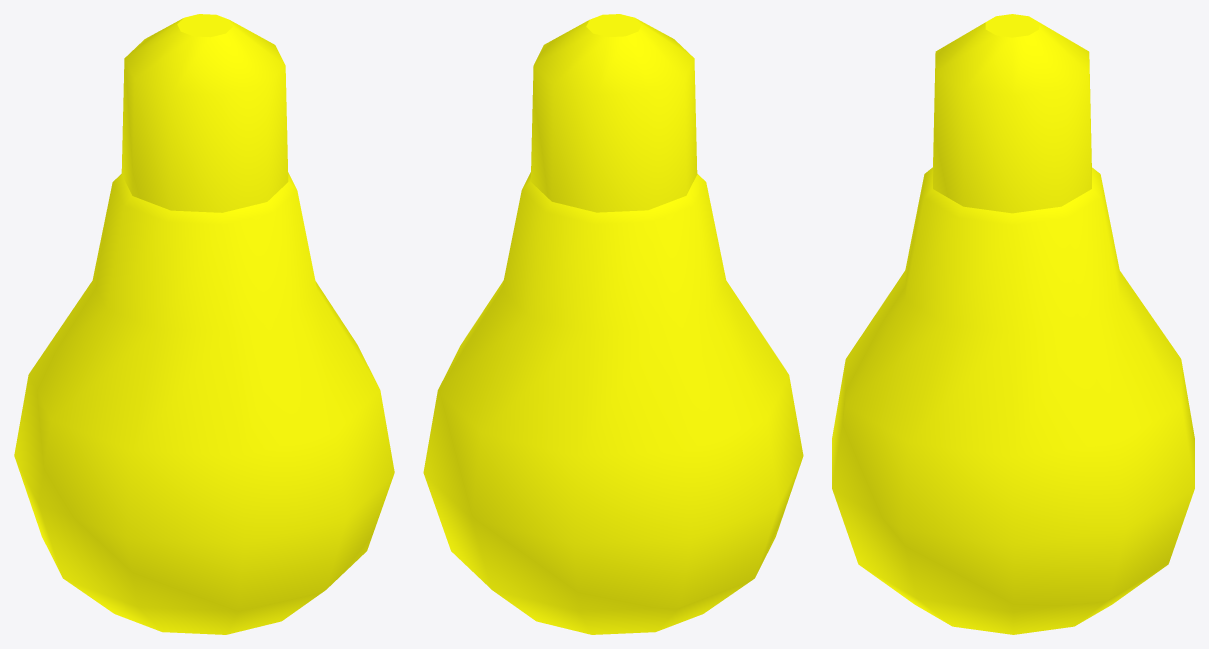
File: SM_Bulb_01.glb
3 views of the same model, side by side, from view 1: azimuth 30°, elevation 25°; view 2: azimuth 150°, elevation 25°; view 3: azimuth 270°, elevation 25° (orthographic).
Visible parts, largest first — view 1: SM_Bulb_01; view 2: SM_Bulb_01; view 3: SM_Bulb_01.
Part boxes in pixels (left/top/right/bottom): SM_Bulb_01: left=14, top=14, right=394, bottom=634; SM_Bulb_01: left=423, top=14, right=803, bottom=634; SM_Bulb_01: left=832, top=14, right=1194, bottom=634.
Bounding box in the file's own units: 0.052 × 0.0878 × 0.0494.
Materials: 1 (1 with a texture image).
